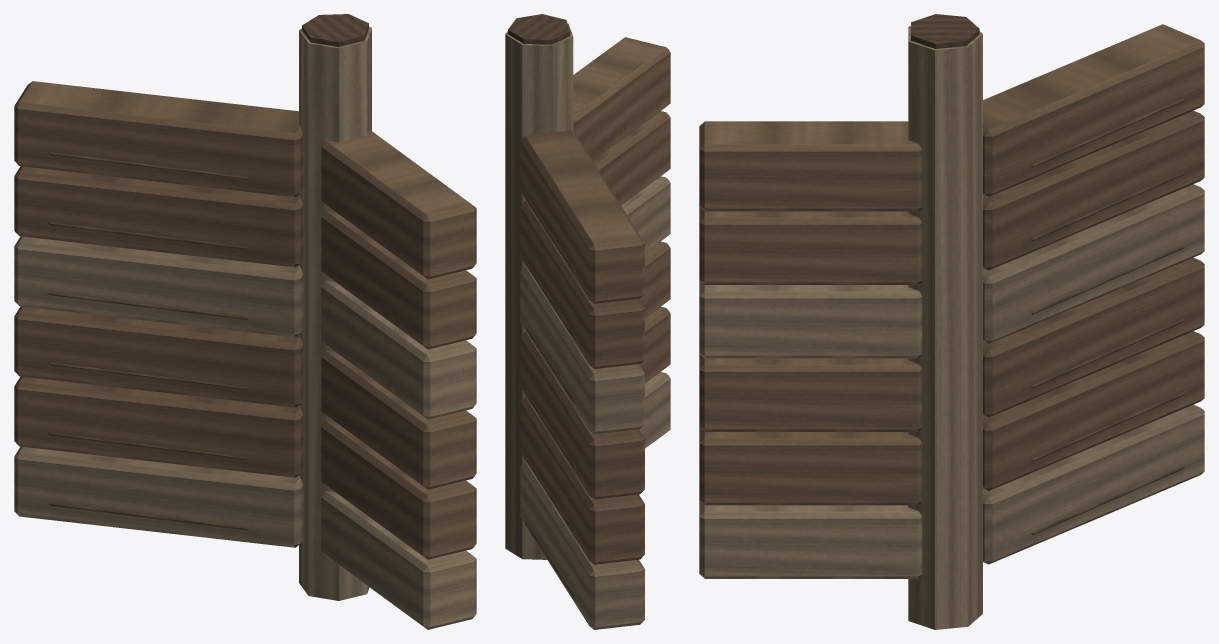
Rendered from wall_mask_33.glb.
3 views of the same model, side by side, from view 1: azimuth 30°, elevation 25°; view 2: azimuth 150°, elevation 25°; view 3: azimuth 270°, elevation 25° (orthographic). The views are drawn at different scales.
Visible parts, largest first — view 1: Weathered timber, Timber worn edges, Dark endgrain; view 2: Weathered timber, Timber worn edges, Dark endgrain; view 3: Weathered timber, Timber worn edges, Dark endgrain.
Boxes of the visible parts, box(x1,y1,x2,y2) form: Weathered timber: box(14, 81, 476, 559); Timber worn edges: box(14, 26, 476, 629); Dark endgrain: box(48, 14, 368, 530); Weathered timber: box(520, 37, 670, 564); Timber worn edges: box(505, 23, 670, 629); Dark endgrain: box(508, 14, 576, 599); Weathered timber: box(699, 24, 1204, 505); Timber worn edges: box(699, 26, 1204, 629); Dark endgrain: box(911, 14, 1184, 534).
Bounding box in the file's own units: 0.6463 × 1.39 × 1.09.
3 materials, 3 textured.
